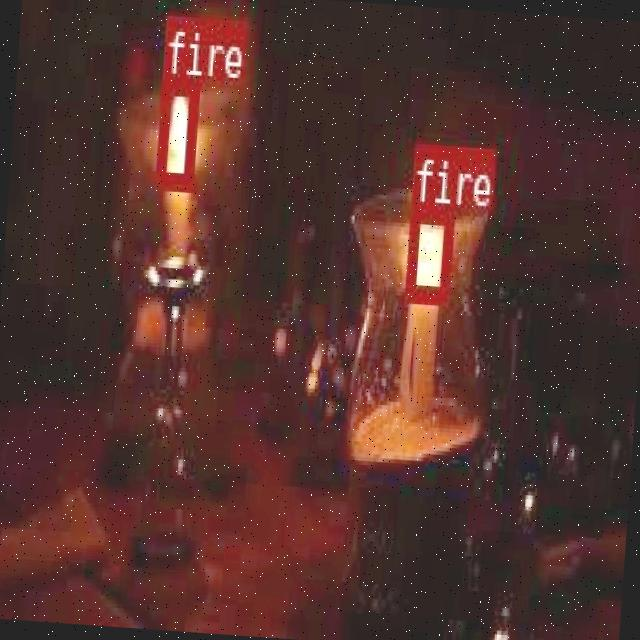fire: (153, 74, 197, 188), (402, 201, 452, 299)
